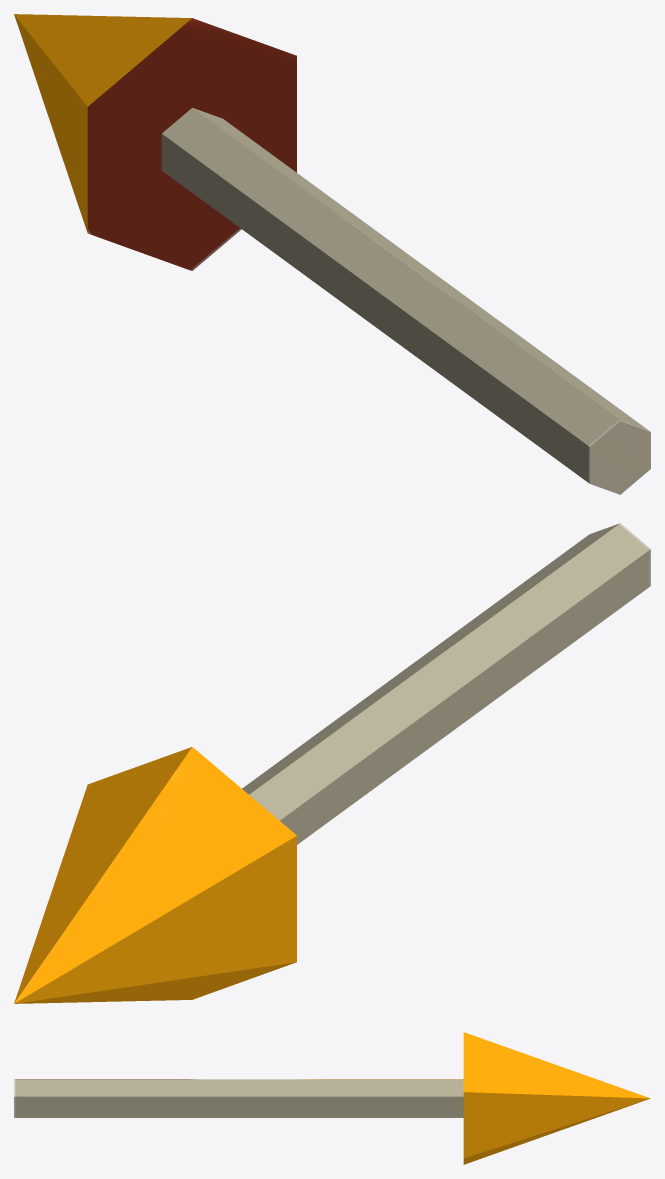
File: Arrow.glb
3 views of the same model, one above another, from view 1: azimuth 30°, elevation 25°; view 2: azimuth 150°, elevation 25°; view 3: azimuth 270°, elevation 25° (orthographic). The views are drawn at different scales.
Visible parts, largest first — view 1: Cylinder; view 2: Cylinder; view 3: Cylinder.
Part boxes in pixels (x1,y1,x2,y2): Cylinder: (14,14,650,494); Cylinder: (14,523,650,1003); Cylinder: (14,1032,650,1164).
Bounding box in the file's own units: 0.6749 × 0.7793 × 3.38.
Materials: 1 (1 with a texture image).
